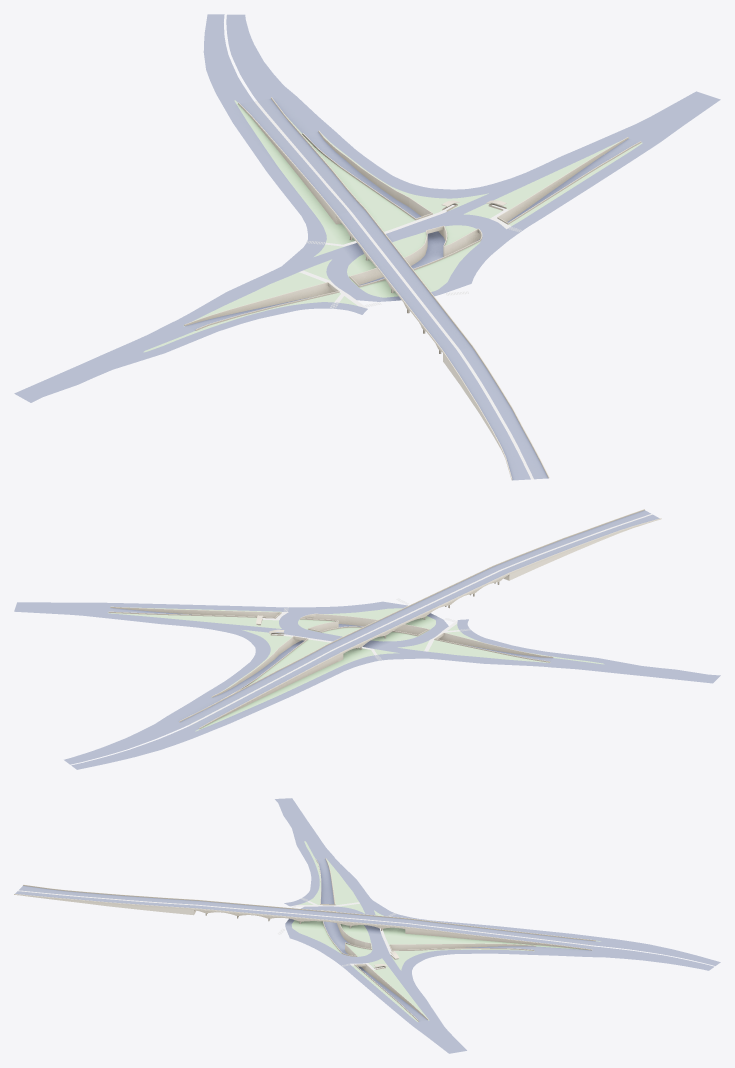
File: VOAD-halilulina-colored2.glb
3 views of the same model, one above another, from view 1: azimuth 30°, elevation 25°; view 2: azimuth 150°, elevation 25°; view 3: azimuth 270°, elevation 25° (orthographic). The views are drawn at different scales.
Visible parts, largest first — view 1: group_3, group_4.003, group_2, group_1, group_6.002; view 2: group_3, group_4.003, group_2, group_1, group_6.002; view 3: group_3, group_4.003, group_1, group_2, group_6.002.
Part boxes in pixels (x1,y1,x2,y2): group_3: (14, 14, 720, 480); group_4.003: (143, 100, 642, 352); group_2: (184, 130, 641, 330); group_1: (238, 97, 549, 480); group_6.002: (254, 101, 533, 479); group_3: (14, 510, 720, 769); group_4.003: (108, 607, 604, 731); group_2: (108, 606, 553, 699); group_1: (179, 509, 661, 728); group_6.002: (188, 514, 652, 725); group_3: (15, 798, 720, 1053); group_4.003: (291, 841, 600, 1021); group_1: (14, 884, 595, 950); group_2: (315, 858, 536, 1021); group_6.002: (18, 890, 593, 970).
Bounding box in the file's own units: 616 × 15 × 720.
5 materials, 3 textured.
